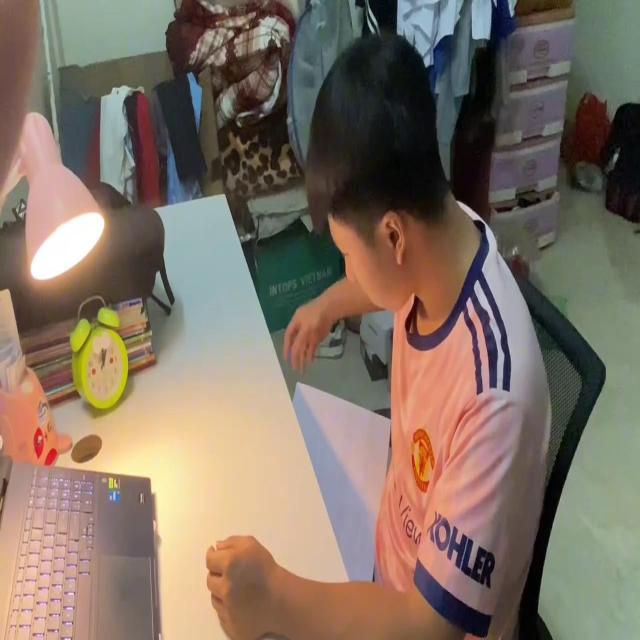book: (294, 368, 390, 616)
laptop: (0, 448, 164, 640)
student: (202, 33, 552, 640)
